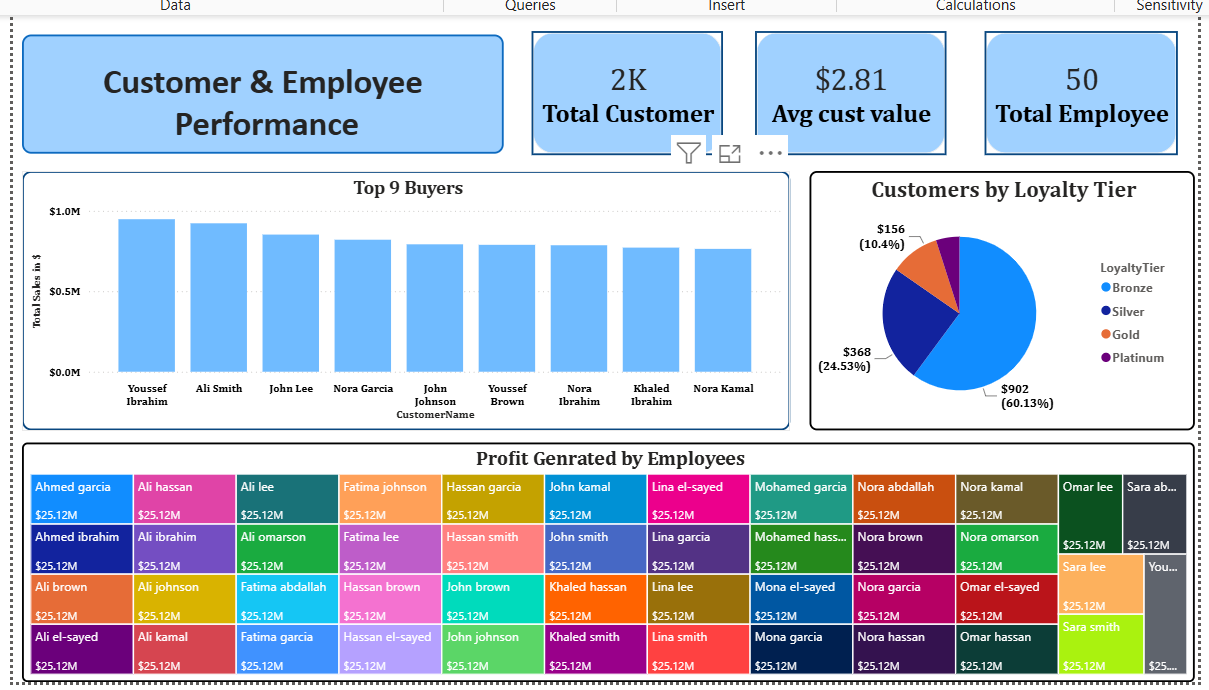

This screenshot's page, from the dashboard's own definition file:
{"tool":"powerbi","page":{"name":"Cust and Emp","canvas":[1280,720],"ordinal":2},"visuals":[{"type":"cardVisual","fields":{"Data":["My Measures.Total Customer"]},"box":[541.7,0,241.7,168.3],"z":0},{"type":"cardVisual","fields":{"Data":["My Measures.Total Employee"]},"box":[1031.7,0,243.3,168.3],"z":1000},{"type":"cardVisual","fields":{"Data":["My Measures.Avg cust value"]},"box":[783.3,0,241.7,168.3],"z":2000},{"type":"textbox","box":[10,21.7,520,128.3],"z":4000},{"type":"columnChart","title":"Top 9 Buyers","fields":{"Y":["My Measures.Total_Sales"],"Category":["Customers.CustomerName"]},"box":[9.4,168.2,829.6,279.7],"z":5000},{"type":"pieChart","title":"Customers by Loyalty Tier","fields":{"Category":["Customers.LoyaltyTier"],"Y":["My Measures.Total Customer"]},"box":[859.8,168.2,415.8,279.7],"z":6000},{"type":"treemap","title":"Profit Genrated by Employees","fields":{"Group":["Employees.EmployeeName"],"Values":["My Measures.Total Profit"]},"box":[9.4,461.1,1266.2,258.9],"z":6001}]}

Visuals, with their boxes on the page's 1280x720 design canvas (x1, y1, x2, y2). These are canvas units, not pixel positions in the 1209x690 screenshot, which may show the page scaled, cropped or inside an application window:
cardVisual - My Measures.Total Customer: bbox=[542, 0, 783, 168]
cardVisual - My Measures.Total Employee: bbox=[1032, 0, 1275, 168]
cardVisual - My Measures.Avg cust value: bbox=[783, 0, 1025, 168]
textbox: bbox=[10, 22, 530, 150]
"Top 9 Buyers" columnChart: bbox=[9, 168, 839, 448]
"Customers by Loyalty Tier" pieChart: bbox=[860, 168, 1276, 448]
"Profit Genrated by Employees" treemap: bbox=[9, 461, 1276, 720]
